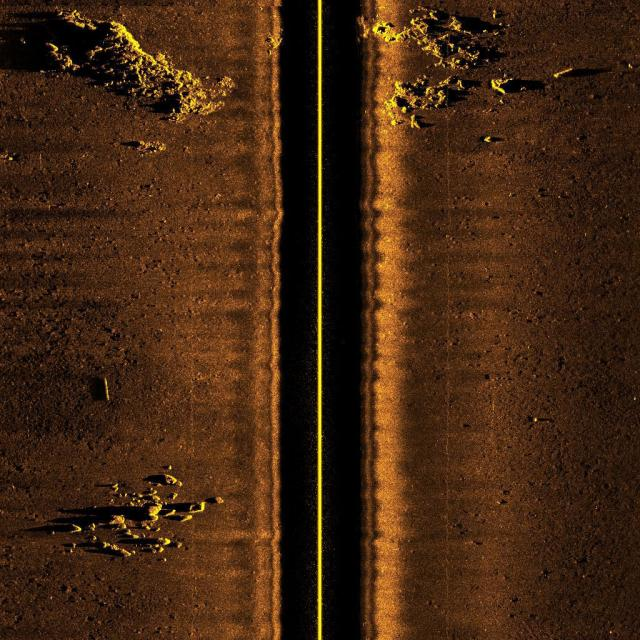mine: (552, 64, 612, 80), (84, 374, 114, 404)
